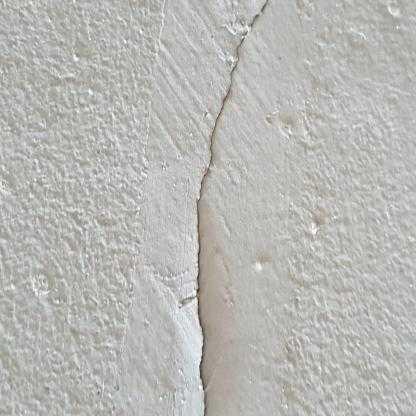crack: (196, 1, 268, 415)
